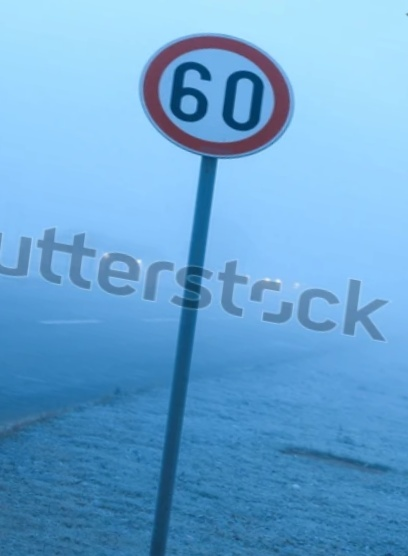Speed limit: (135, 28, 296, 168)
